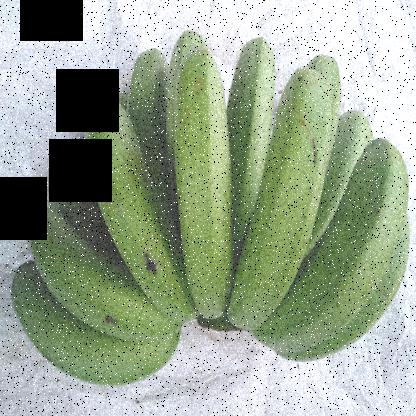unripe: (276, 123, 402, 364), (232, 62, 334, 341), (84, 84, 190, 312), (164, 45, 241, 326), (9, 276, 168, 396), (15, 205, 168, 324), (232, 25, 274, 200), (126, 34, 170, 158)
